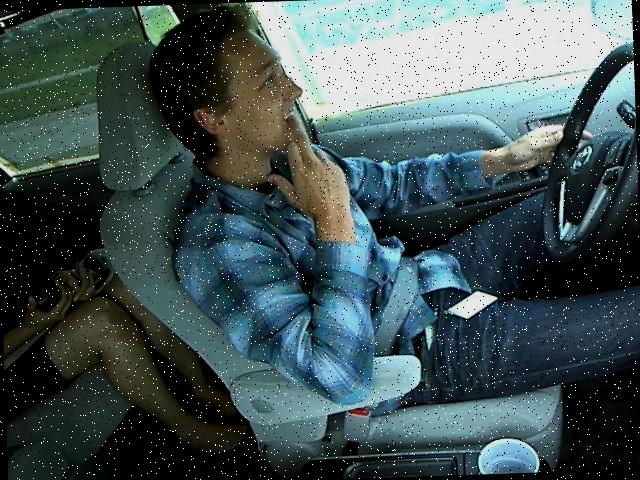c6 - Hair and Makeup: (140, 0, 636, 314)
